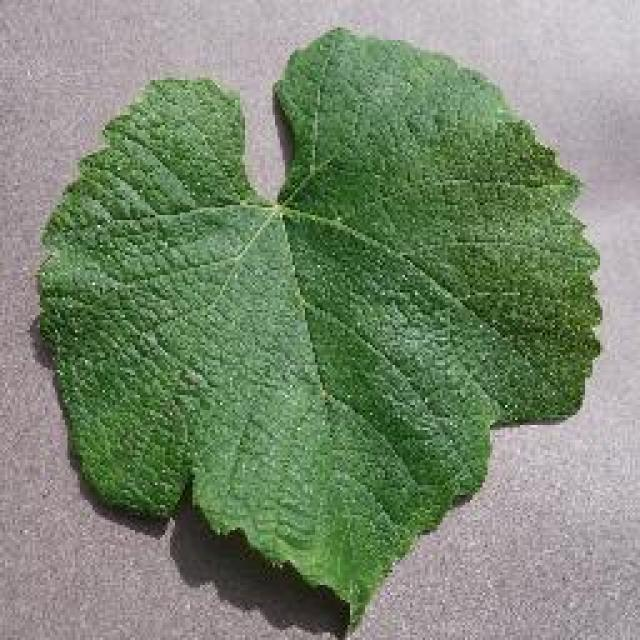Grape___healthy: (38, 28, 598, 620)
